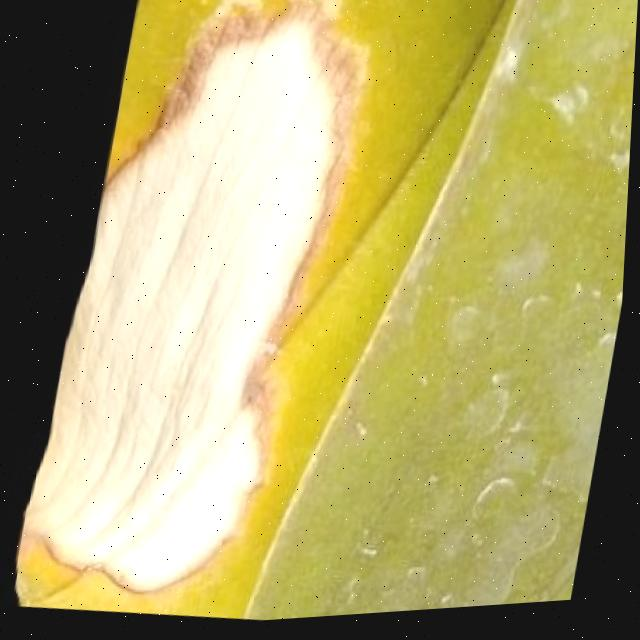mite: (380, 0, 638, 619), (320, 266, 627, 622), (423, 276, 627, 509), (429, 475, 578, 616), (536, 328, 622, 515), (438, 296, 509, 368), (493, 234, 564, 304), (474, 477, 535, 534), (494, 438, 556, 488), (451, 305, 495, 354), (600, 335, 621, 368)
sunburn: (16, 0, 392, 613)
